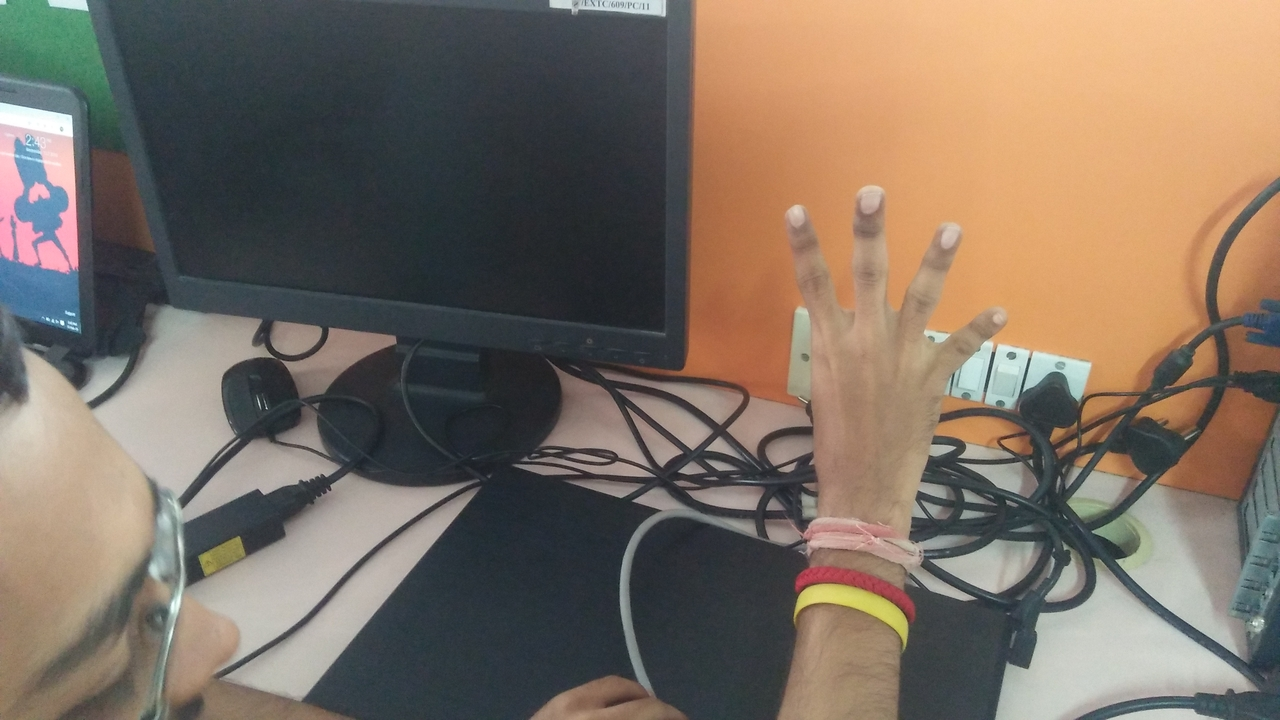fingertip: (920, 206, 974, 260), (846, 174, 902, 220), (778, 192, 826, 238), (972, 300, 1014, 339)
